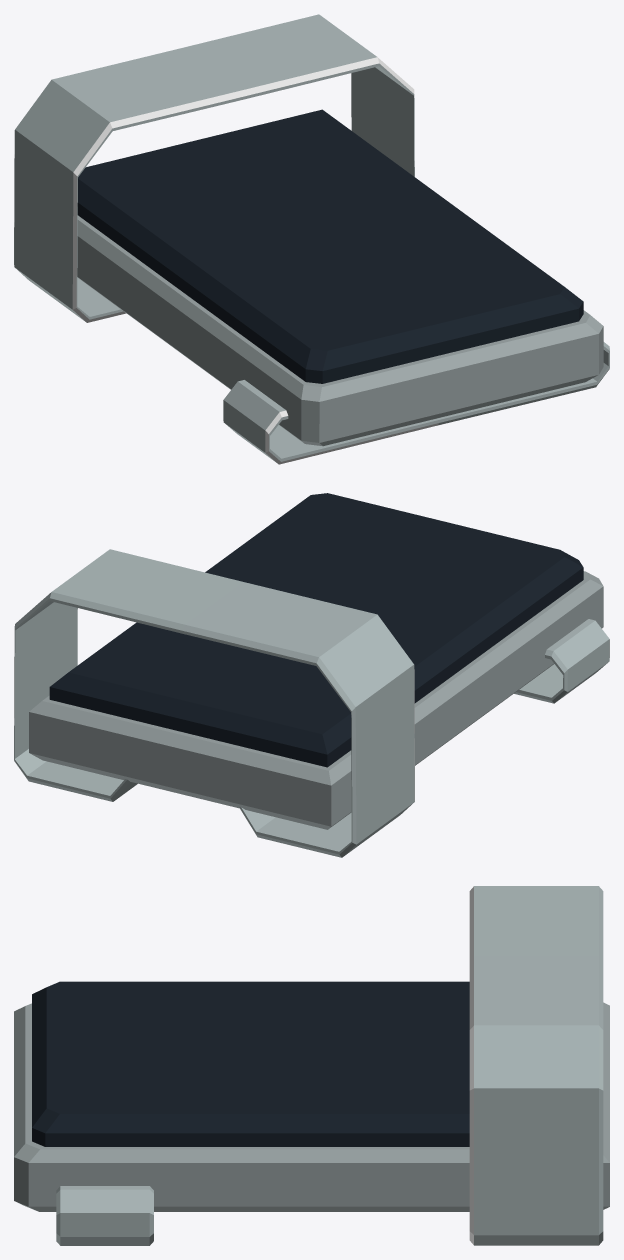
Rendered from Bed-1.fbx.
3 renders of one model, top to bottom at view 1: azimuth 30°, elevation 25°; view 2: azimuth 150°, elevation 25°; view 3: azimuth 270°, elevation 25°, orthographic. The views are drawn at different scales.
Visible parts, largest first — view 1: Bed-1; view 2: Bed-1; view 3: Bed-1.
Boxes of the visible parts, x1,y1,x2,y2 form: Bed-1: [14, 14, 609, 464]; Bed-1: [14, 493, 609, 857]; Bed-1: [14, 886, 609, 1245].
Bounding box in the file's own units: 2.97 × 1.61 × 4.17.
